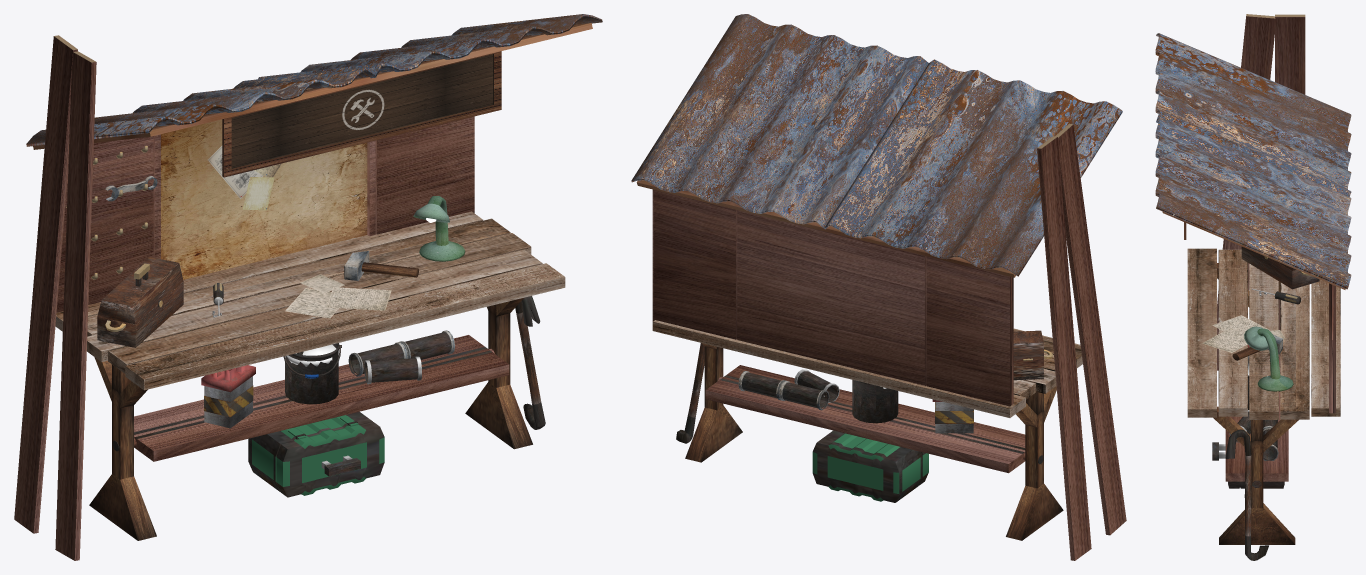
Rendered from workbench.glb.
3 views of the same model, side by side, from view 1: azimuth 30°, elevation 25°; view 2: azimuth 150°, elevation 25°; view 3: azimuth 270°, elevation 25° (orthographic). The views are drawn at different scales.
Parts seen in each view (by area): view 1: Cube.003, Cube, Cube.023, Cube.002, Cube.018, Cube.017, Plane, Cube.001, Cube.016, Cube.008, Cube.007, Cylinder.001 (+7 smaller); view 2: Plane, Cube.003, Cube.002, Cube.017, Cube.018, Cube.001, Cube.016, Cube, Cylinder.010, Cube.007, Cylinder.001, Cube.008 (+3 smaller); view 3: Plane, Cube, Cube.001, Cube.017, Cube.018, Cube.002, Cylinder.003, Cylinder.012, Cube.008, Cube.014, Cube.003, Cube.016 (+4 smaller).
Boxes of the visible parts, x1=… form: Cube.003: x1=56, y1=116, x2=474, y2=312; Cube: x1=55, y1=211, x2=565, y2=390; Cube.023: x1=222, y1=51, x2=501, y2=177; Cube.002: x1=112, y1=335, x2=509, y2=461; Cube.018: x1=55, y1=51, x2=96, y2=560; Cube.017: x1=14, y1=35, x2=77, y2=533; Plane: x1=26, y1=14, x2=602, y2=146; Cube.001: x1=89, y1=298, x2=532, y2=540; Cube.016: x1=248, y1=411, x2=384, y2=497; Cube.008: x1=97, y1=257, x2=183, y2=347; Cube.007: x1=33, y1=23, x2=592, y2=149; Cylinder.001: x1=285, y1=343, x2=339, y2=404; Plane: x1=631, y1=14, x2=1122, y2=276; Cube.003: x1=652, y1=189, x2=1013, y2=406; Cube.002: x1=705, y1=365, x2=1043, y2=473; Cube.017: x1=1037, y1=136, x2=1091, y2=560; Cube.018: x1=1055, y1=123, x2=1126, y2=535; Cube.001: x1=685, y1=343, x2=1063, y2=540; Cube.016: x1=812, y1=430, x2=928, y2=502; Cube: x1=652, y1=320, x2=1082, y2=417; Cylinder.010: x1=738, y1=371, x2=829, y2=410; Cube.007: x1=636, y1=180, x2=1015, y2=277; Cylinder.001: x1=852, y1=380, x2=898, y2=423; Cube.008: x1=1013, y1=330, x2=1043, y2=380; Plane: x1=1155, y1=33, x2=1351, y2=289; Cube: x1=1187, y1=248, x2=1340, y2=419; Cube.001: x1=1213, y1=263, x2=1298, y2=544; Cube.017: x1=1275, y1=14, x2=1305, y2=329; Cube.018: x1=1217, y1=14, x2=1276, y2=370; Cube.002: x1=1225, y1=354, x2=1288, y2=487; Cylinder.003: x1=1244, y1=326, x2=1293, y2=391; Cylinder.012: x1=1225, y1=429, x2=1268, y2=560; Cube.008: x1=1241, y1=246, x2=1319, y2=289; Cube.014: x1=1202, y1=315, x2=1285, y2=352; Cube.003: x1=1329, y1=283, x2=1335, y2=413; Cube.016: x1=1212, y1=442, x2=1284, y2=488.
Bounding box in the file's own units: 21.29 × 19.69 × 9.34.
33 materials, 29 textured.
